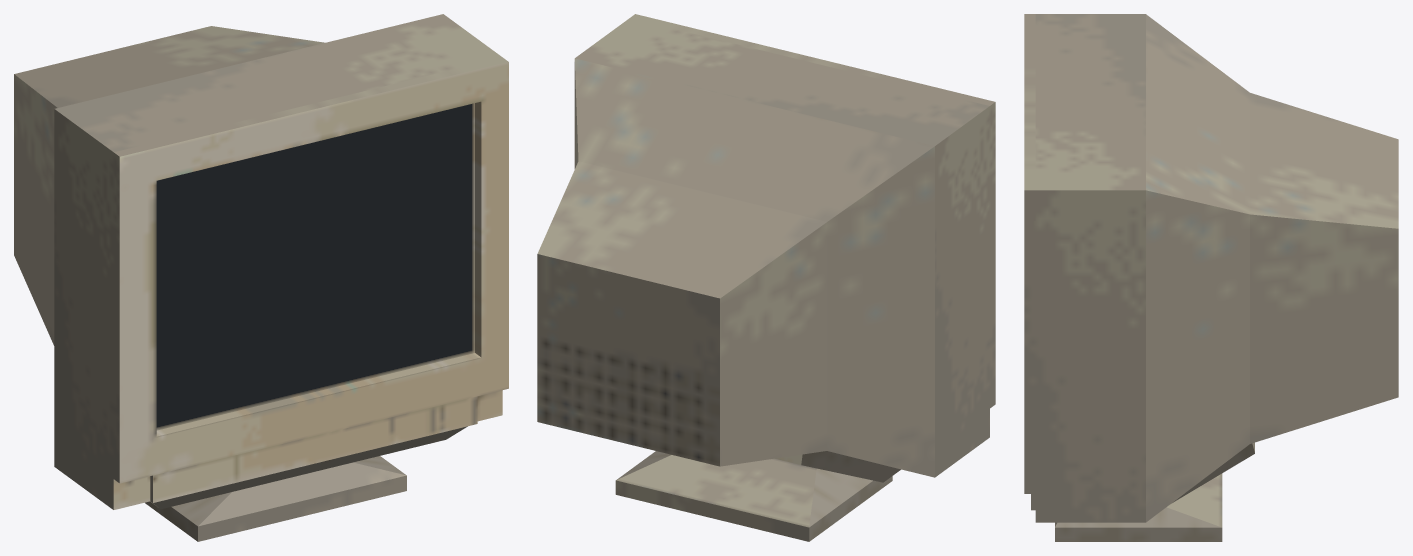
Rendered from PcScreen.fbx.
The picture shows the model from 3 angles, left to right: view 1: azimuth 30°, elevation 25°; view 2: azimuth 150°, elevation 25°; view 3: azimuth 270°, elevation 25°; orthographic projection. The views are drawn at different scales.
Parts seen in each view (by area): view 1: Screen; view 2: Screen; view 3: Screen.
Boxes of the visible parts, x1,y1,x2,y2 form: Screen: (14, 14, 508, 541); Screen: (537, 14, 995, 541); Screen: (1024, 14, 1398, 541).
Size of the model in its own units: 0.5106 by 0.5271 by 0.4582.
1 material, 1 textured.
